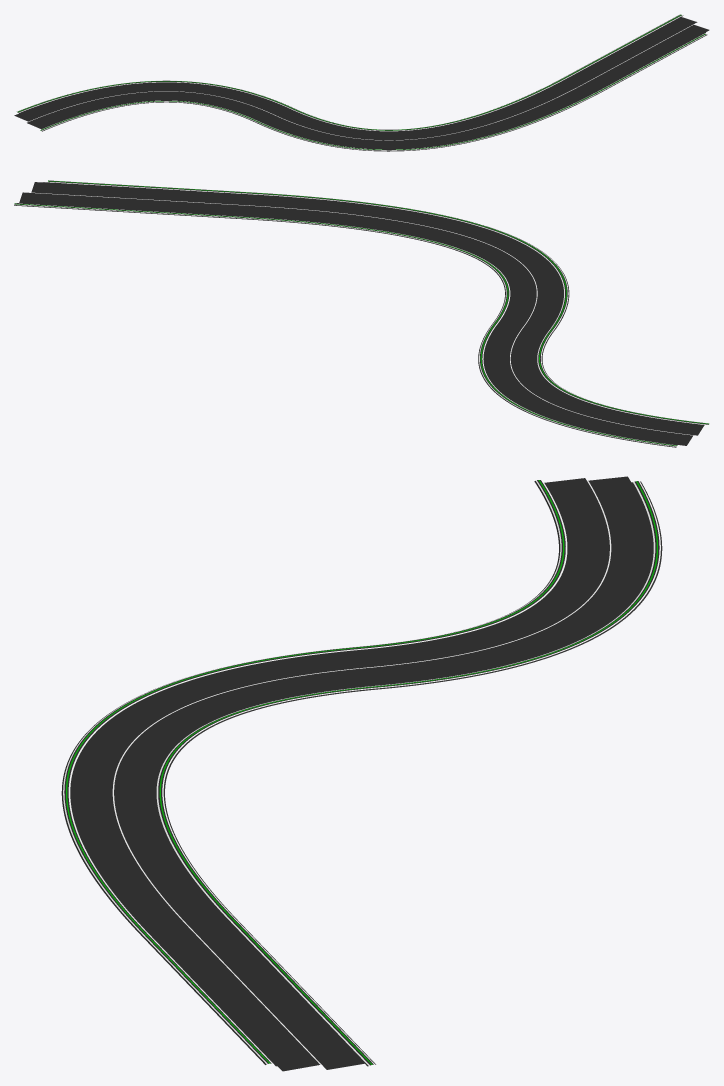
Rendered from Spa.Short.02.glb.
3 renders of one model, top to bottom at view 1: azimuth 30°, elevation 25°; view 2: azimuth 150°, elevation 25°; view 3: azimuth 270°, elevation 25°, orthographic. The views are drawn at different scales.
Parts seen in each view (by area): view 1: Track.002; view 2: Track.002; view 3: Track.002.
Boxes of the visible parts, x1,y1,x2,y2 form: Track.002: [14, 14, 709, 151]; Track.002: [14, 180, 709, 447]; Track.002: [61, 476, 662, 1071].
Bounding box in the file's own units: 204 × 0.1549 × 87.16.
